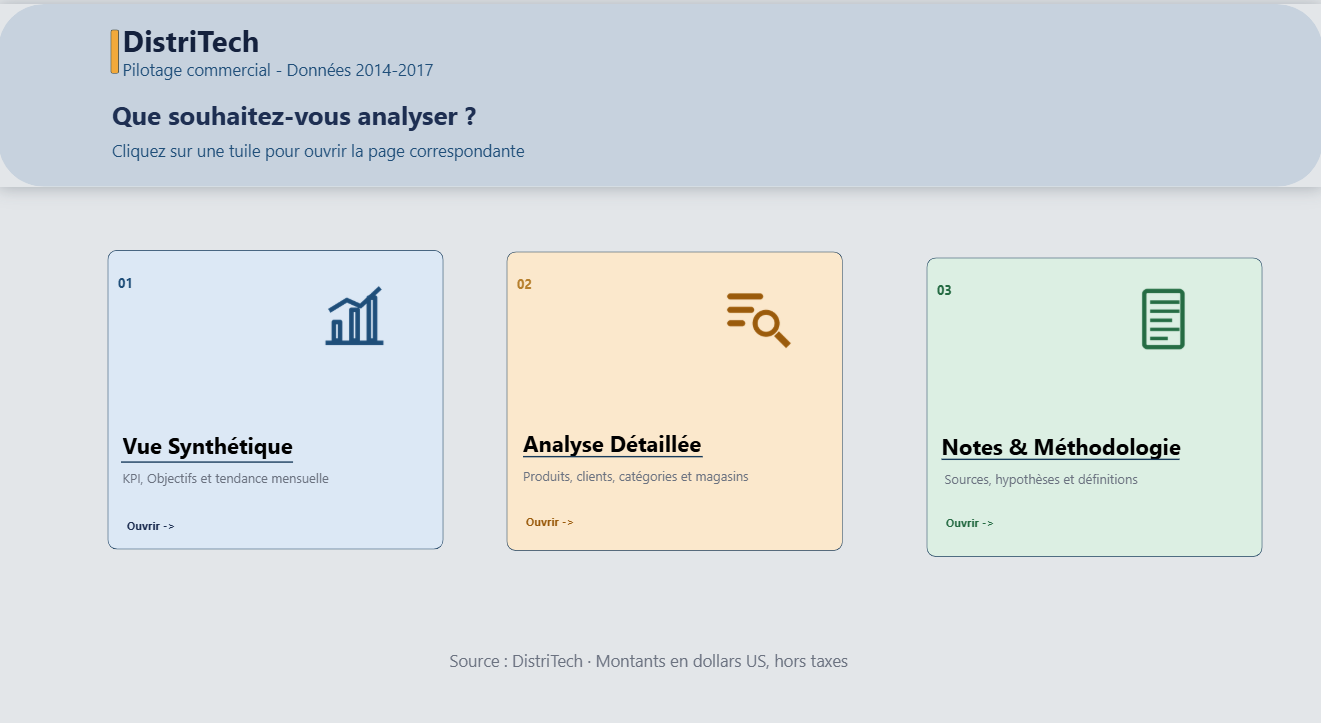

The dashboard page shown, as its layout file describes it:
{"tool":"powerbi","page":{"name":"Accueil","canvas":[1920,1080],"ordinal":0},"visuals":[{"type":"shape","box":[0,30,1920,265],"z":0},{"type":"shape","box":[157.5,387.5,487,434],"z":0,"group":"g1"},{"type":"shape","box":[737.5,390,487.5,434],"z":0,"group":"g2"},{"type":"shape","box":[1345,397.5,487,434],"z":0,"group":"g3"},{"type":"shape","box":[162,67.8,12.4,64.1],"z":1000},{"type":"image","box":[440.4,423.6,148.8,113],"z":1000,"group":"g1"},{"type":"image","box":[1024.4,425.4,150.9,110.7],"z":1000,"group":"g2"},{"type":"image","box":[1616.9,432.3,143,108.8],"z":1000,"group":"g3"},{"type":"textbox","box":[181.3,53.5,263.9,62.5],"z":2000},{"type":"textbox","box":[172.8,422.7,44,52.8],"z":2000,"group":"g1"},{"type":"textbox","box":[753,424.5,44.6,51.7],"z":2000,"group":"g2"},{"type":"textbox","box":[1359.7,431.4,42.3,50.9],"z":2000,"group":"g3"},{"type":"textbox","box":[181.5,109.7,498.9,43.2],"z":3000},{"type":"textbox","box":[761.6,703.6,413.7,51],"z":3000,"group":"g2"},{"type":"textbox","box":[179.7,705,383.9,57.4],"z":3000,"group":"g1"},{"type":"textbox","box":[1371.1,705.5,369,55.3],"z":3000,"group":"g3"},{"type":"textbox","box":[165.3,227,650.8,42.5],"z":4000},{"type":"textbox","box":[760.9,645.5,321.7,67.5],"z":4000,"group":"g2"},{"type":"textbox","box":[180.6,648.4,317.3,68.9],"z":4000,"group":"g1"},{"type":"textbox","box":[1367,649.3,364.5,66],"z":4000,"group":"g3"},{"type":"textbox","box":[165.5,164.7,619.4,62.5],"z":5000},{"type":"shape","box":[1366.5,681.3,345,15.5],"z":5000,"group":"g3"},{"type":"shape","box":[761.3,681.5,260.5,12],"z":5000,"group":"g2"},{"type":"shape","box":[179.1,687.2,249.4,14.7],"z":5000,"group":"g1"},{"type":"group","id":"g1","title":"Tuile 1","box":[156.4,387.5,488.1,439.1],"z":6000},{"type":"textbox","box":[766.2,771.2,110.4,32.2],"z":6000,"group":"g2"},{"type":"textbox","box":[1372.2,772.1,104.7,31.6],"z":6000,"group":"g3"},{"type":"textbox","box":[185.8,776.7,108.9,32.9],"z":6000,"group":"g1"},{"type":"group","id":"g2","title":"Tuile 2","box":[737.5,390,488.4,435],"z":7000},{"type":"actionButton","box":[738.9,390.8,487,434.2],"z":7000,"group":"g2"},{"type":"actionButton","box":[156.4,392.6,487,434],"z":7000,"group":"g1"},{"type":"actionButton","box":[1346.3,398.2,487,434],"z":7000,"group":"g3"},{"type":"group","id":"g3","title":"Tuile 3","box":[1345,397.5,488.3,434.7],"z":8000},{"type":"textbox","box":[655,965,650.8,42.5],"z":9000}]}

Visuals, with their boxes in screenshot pixels (x1, y1, x2, y2), scaled from the page's 1920x1080 canvas onto the 1321x723 screenshot:
shape: x1=0 y1=20 x2=1320 y2=197
shape: x1=108 y1=259 x2=443 y2=550
shape: x1=507 y1=261 x2=843 y2=552
shape: x1=925 y1=266 x2=1260 y2=557
shape: x1=111 y1=45 x2=120 y2=88
image: x1=303 y1=284 x2=405 y2=359
image: x1=705 y1=285 x2=809 y2=359
image: x1=1112 y1=289 x2=1211 y2=362
textbox: x1=125 y1=36 x2=306 y2=78
textbox: x1=119 y1=283 x2=149 y2=318
textbox: x1=518 y1=284 x2=549 y2=319
textbox: x1=936 y1=289 x2=965 y2=323
textbox: x1=125 y1=73 x2=468 y2=102
textbox: x1=524 y1=471 x2=809 y2=505
textbox: x1=124 y1=472 x2=388 y2=510
textbox: x1=943 y1=472 x2=1197 y2=509
textbox: x1=114 y1=152 x2=561 y2=180
textbox: x1=524 y1=432 x2=745 y2=477
textbox: x1=124 y1=434 x2=343 y2=480
textbox: x1=941 y1=435 x2=1191 y2=479
textbox: x1=114 y1=110 x2=540 y2=152
shape: x1=940 y1=456 x2=1178 y2=466
shape: x1=524 y1=456 x2=703 y2=464
shape: x1=123 y1=460 x2=295 y2=470
"Tuile 1" group: x1=108 y1=259 x2=443 y2=553
textbox: x1=527 y1=516 x2=603 y2=538
textbox: x1=944 y1=517 x2=1016 y2=538
textbox: x1=128 y1=520 x2=203 y2=542
"Tuile 2" group: x1=507 y1=261 x2=843 y2=552
actionButton: x1=508 y1=262 x2=843 y2=552
actionButton: x1=108 y1=263 x2=443 y2=553
actionButton: x1=926 y1=267 x2=1261 y2=557
"Tuile 3" group: x1=925 y1=266 x2=1261 y2=557
textbox: x1=451 y1=646 x2=898 y2=674
